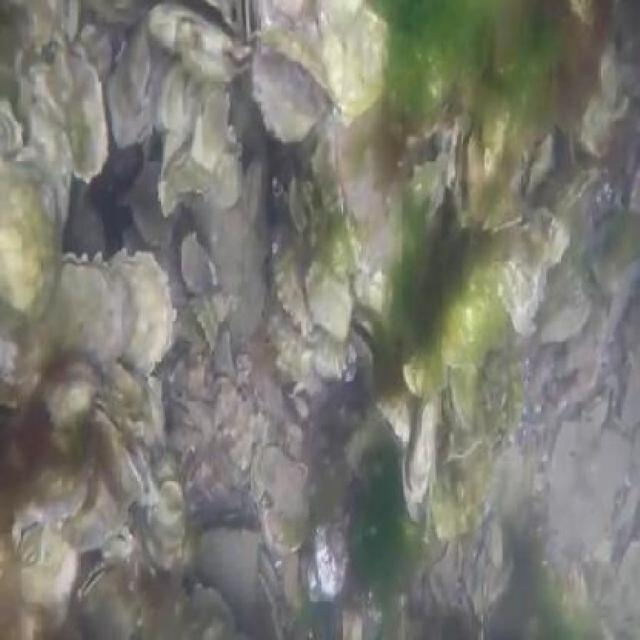Oyster-Closed: (487, 204, 570, 334), (53, 255, 131, 367), (249, 33, 333, 135), (149, 3, 252, 82), (111, 249, 174, 373), (252, 443, 309, 554), (402, 398, 441, 520), (544, 163, 601, 237), (79, 562, 129, 640), (44, 364, 96, 430), (443, 363, 480, 432), (372, 389, 412, 450), (0, 106, 24, 156)
Oyster-Indeterminate: (429, 228, 504, 367), (0, 151, 59, 319), (318, 0, 389, 123), (272, 224, 310, 328), (254, 0, 323, 52), (305, 264, 354, 336)
Oyster-Open: (390, 124, 451, 219), (92, 401, 150, 500), (452, 120, 487, 221), (351, 309, 383, 360)
